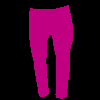pantaloni: (28, 4, 72, 98)
